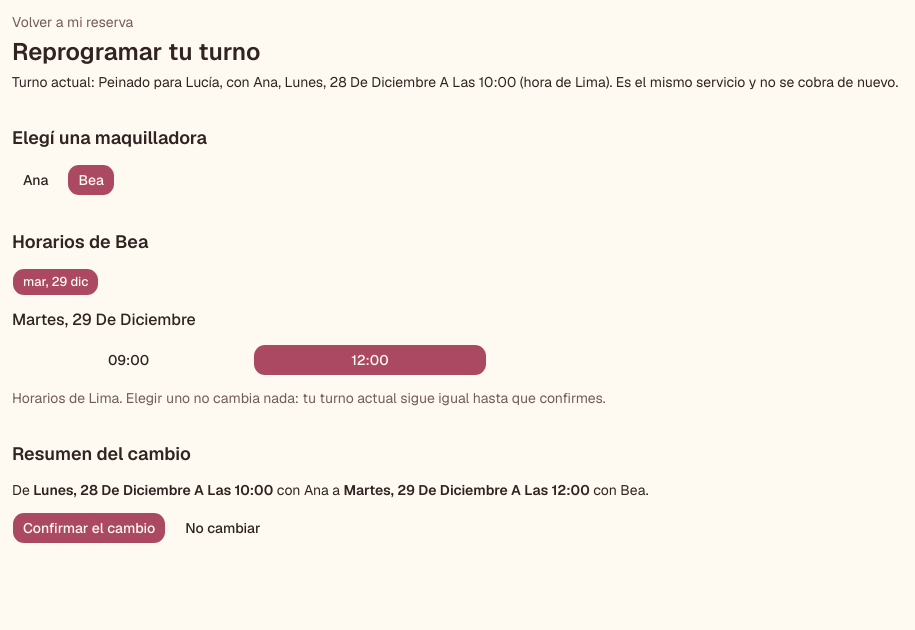
it: PantallaReprogramacion: resumen y confirmación › otros rechazos (como el plazo) muestran su mensaje sin el enlace de horarios
This screenshot has width=915, height=630.
Click the button "Confirmar el cambio".
click(89, 528)  # box [12,512,166,544]
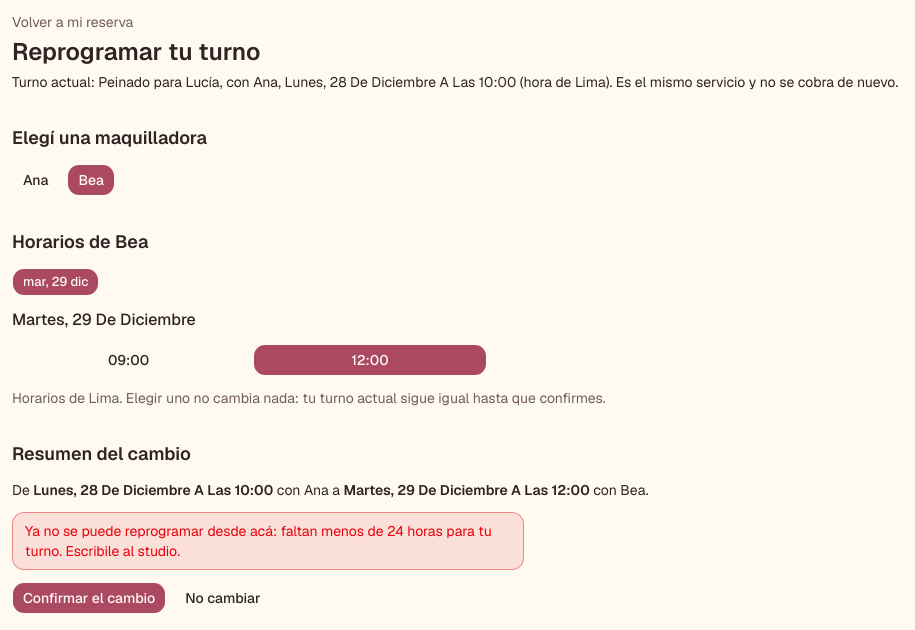
Now the message shows "Escribile al studio", box [25,522,492,560]
